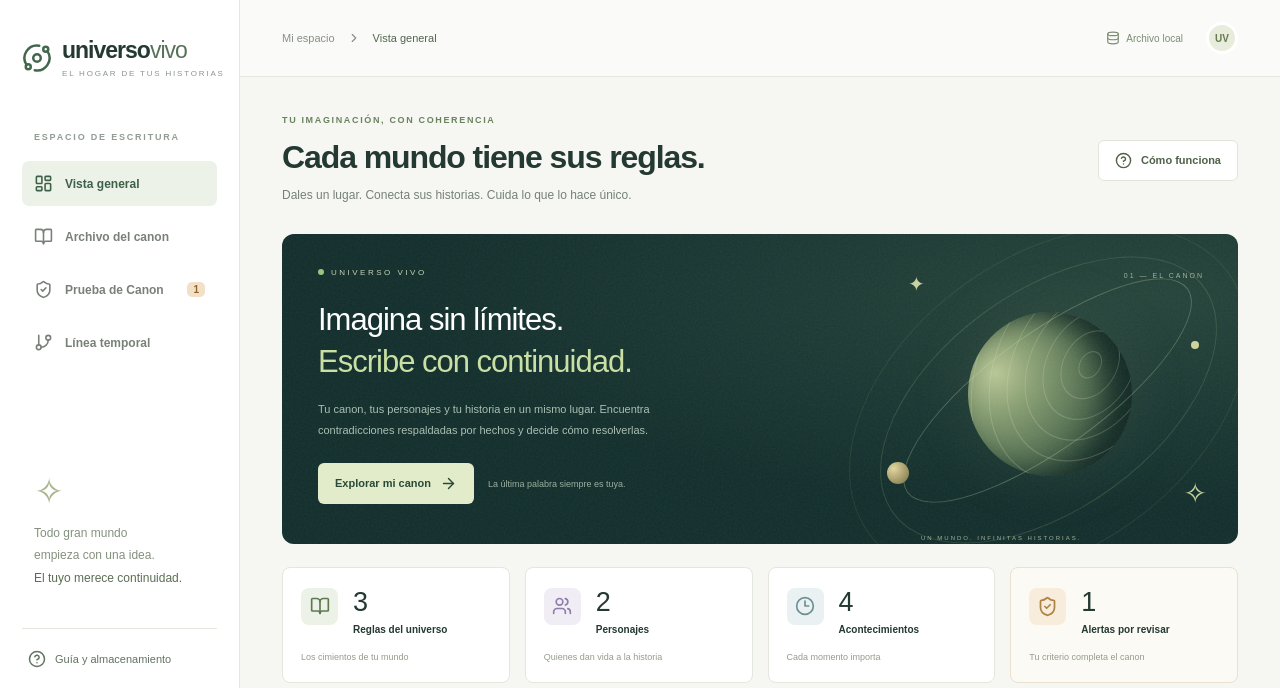
it: Interfaz funcional › filtra por origen y protege personajes vinculados
The width and height of the screenshot is (1280, 688).
Click the button "Archivo del canon" at (120, 236), box top-left (22, 214), bottom-right (217, 259)
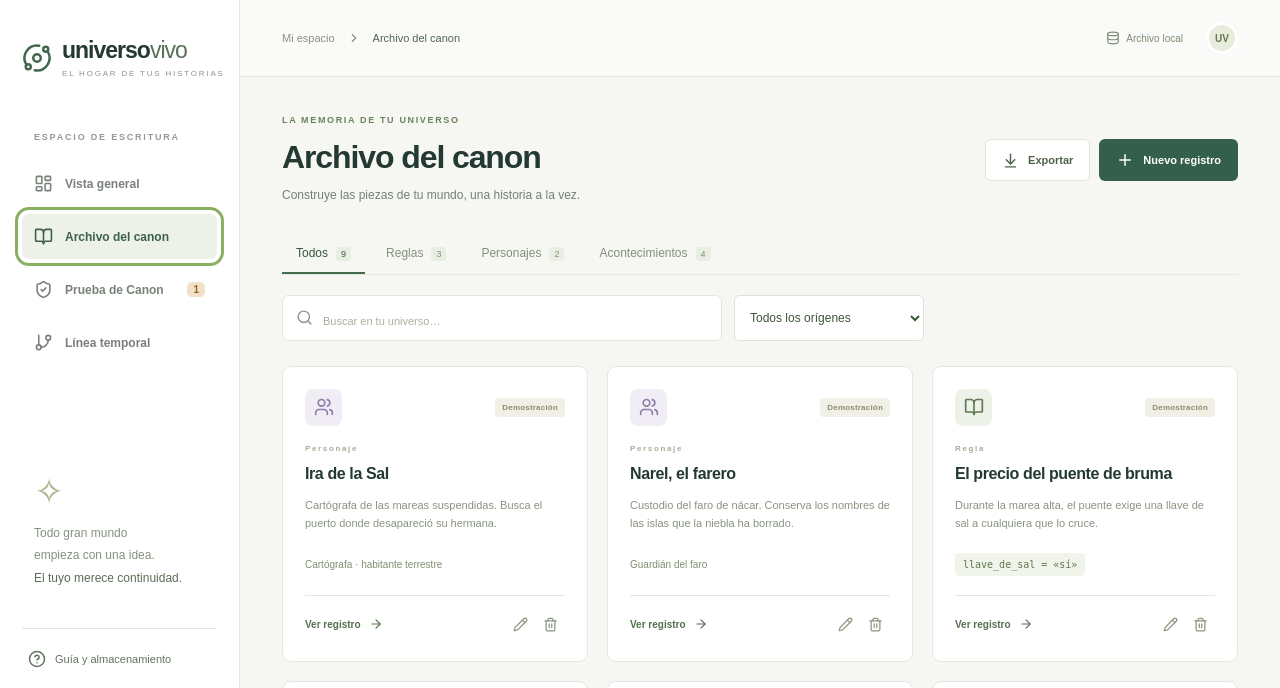
Select "Mis creaciones" in the dropdown named "Filtrar por origen" at (829, 318), box top-left (734, 295), bottom-right (924, 341)
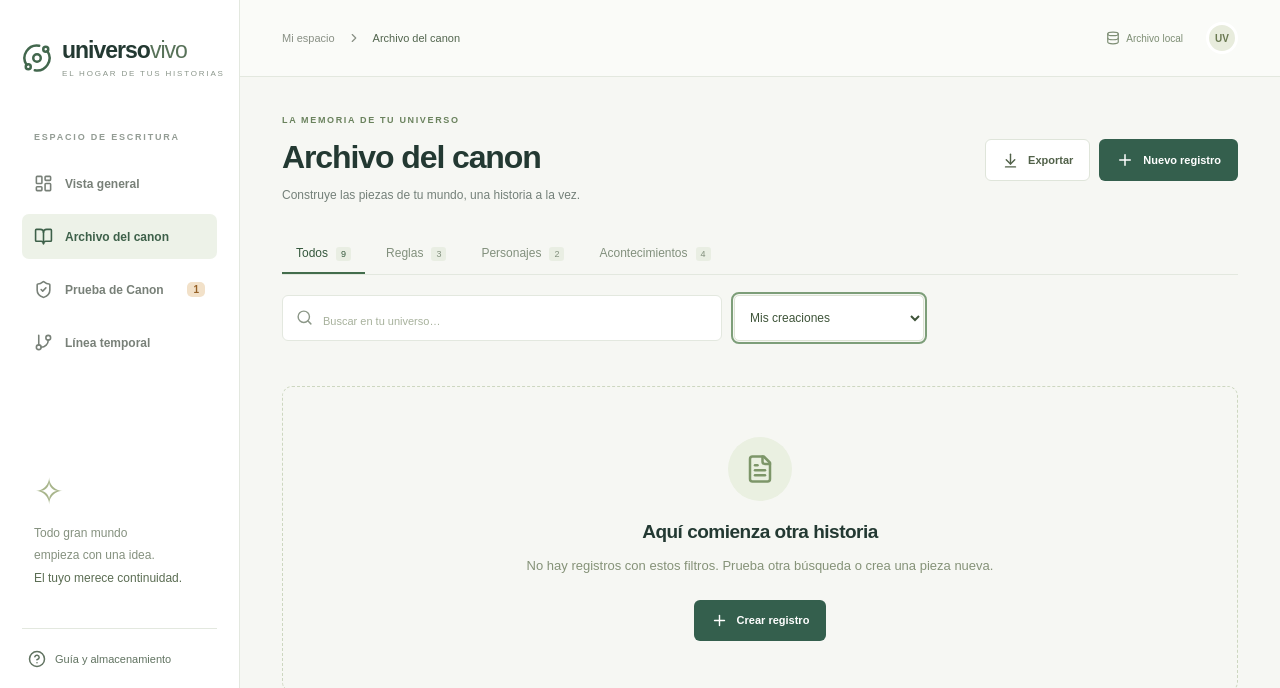
Check: the heading "Aquí comienza otra historia" is shown, box top-left (642, 521), bottom-right (878, 542)
Select "Demostración" in the dropdown named "Filtrar por origen" at (829, 318), box top-left (734, 295), bottom-right (924, 341)
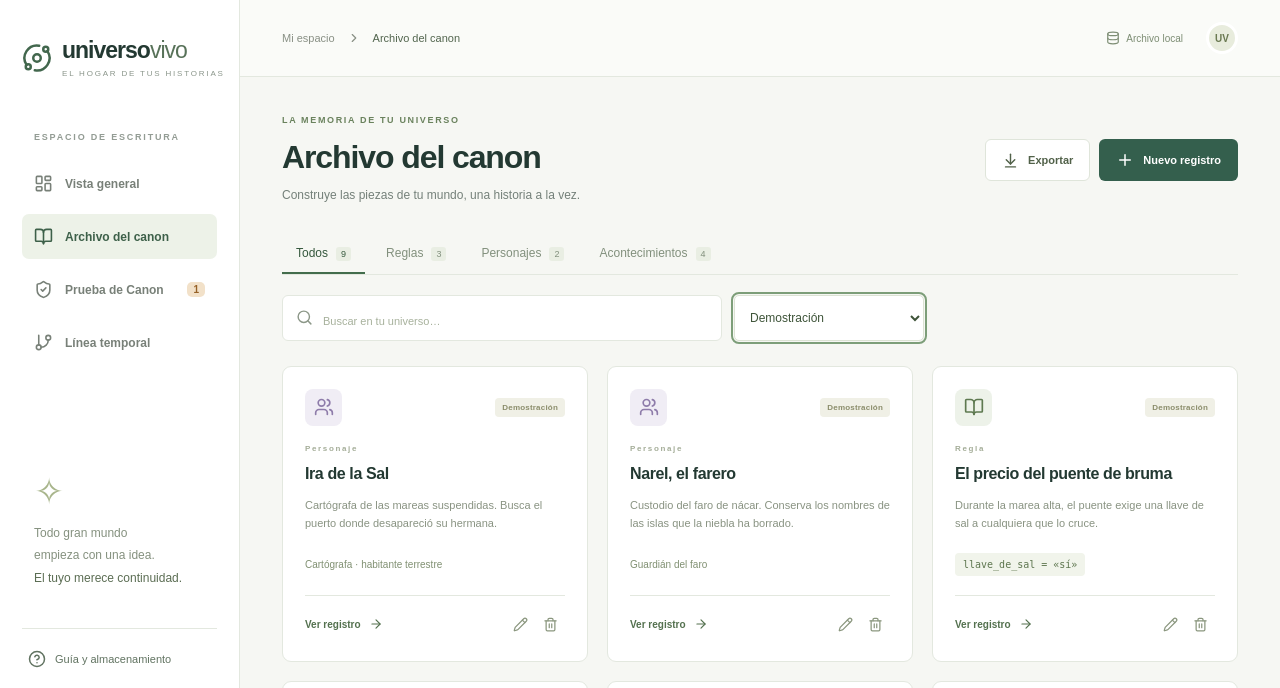
Click the button named "Eliminar Ira de la Sal" at (550, 624), box top-left (535, 609), bottom-right (565, 639)
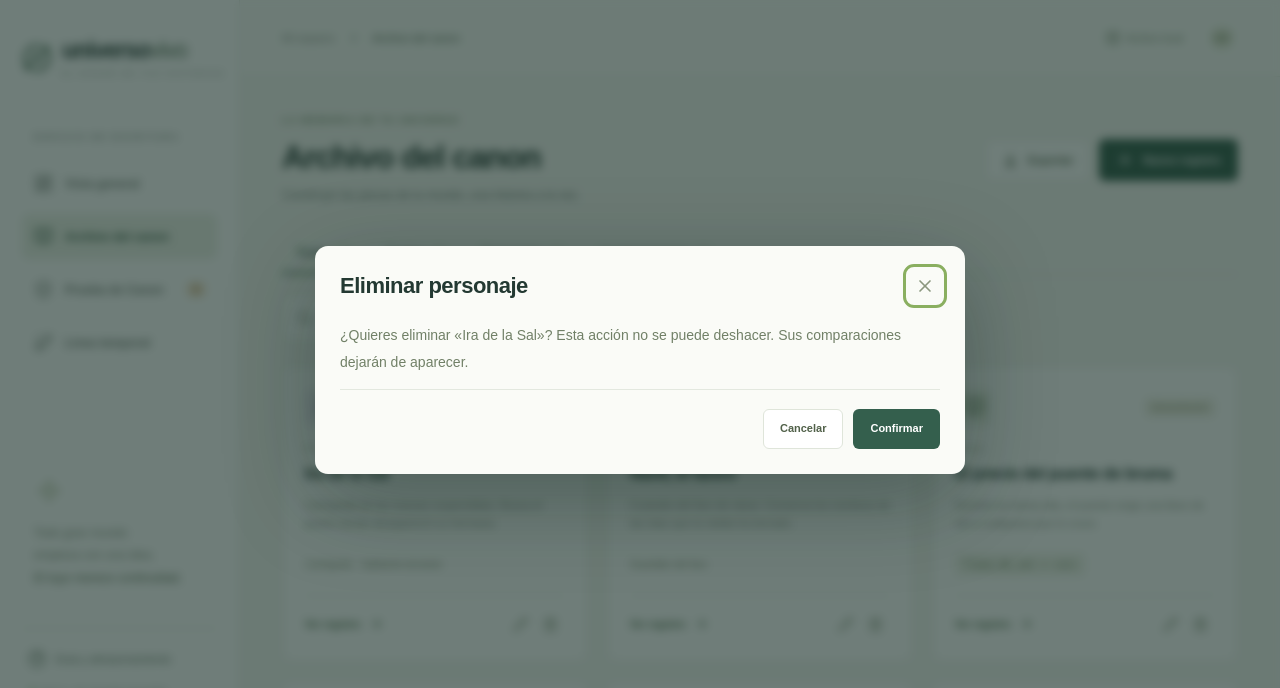
Click the button "Confirmar" at (897, 429), box top-left (853, 409), bottom-right (940, 449)
(page scrolled)
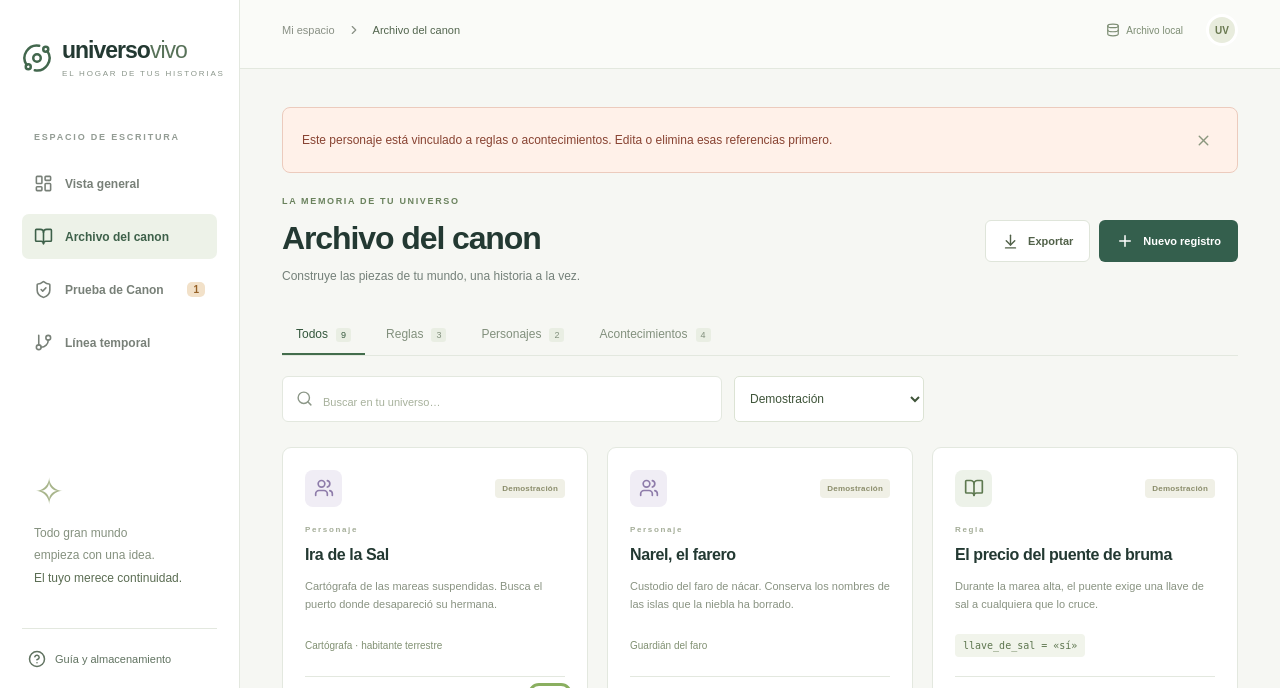
Check: the heading "Ira de la Sal" is shown, box top-left (305, 543), bottom-right (389, 567)
Check: the message shows "vinculado", box top-left (302, 133), bottom-right (832, 147)
